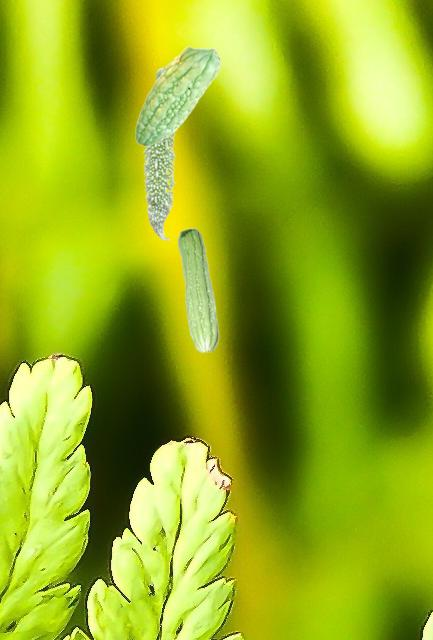ampalaya: (134, 46, 222, 147), (142, 65, 177, 241), (177, 227, 219, 353)
